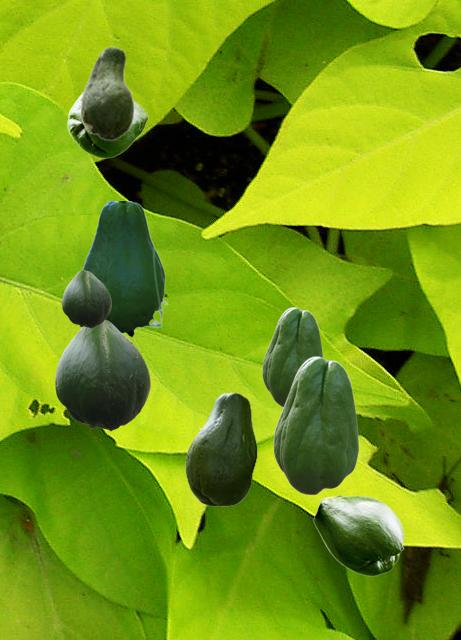sayote: (273, 356, 358, 494), (82, 201, 167, 338), (55, 319, 149, 430), (185, 392, 256, 505), (313, 495, 403, 575), (262, 307, 323, 407), (67, 93, 147, 157), (80, 46, 133, 140), (62, 270, 110, 327)
